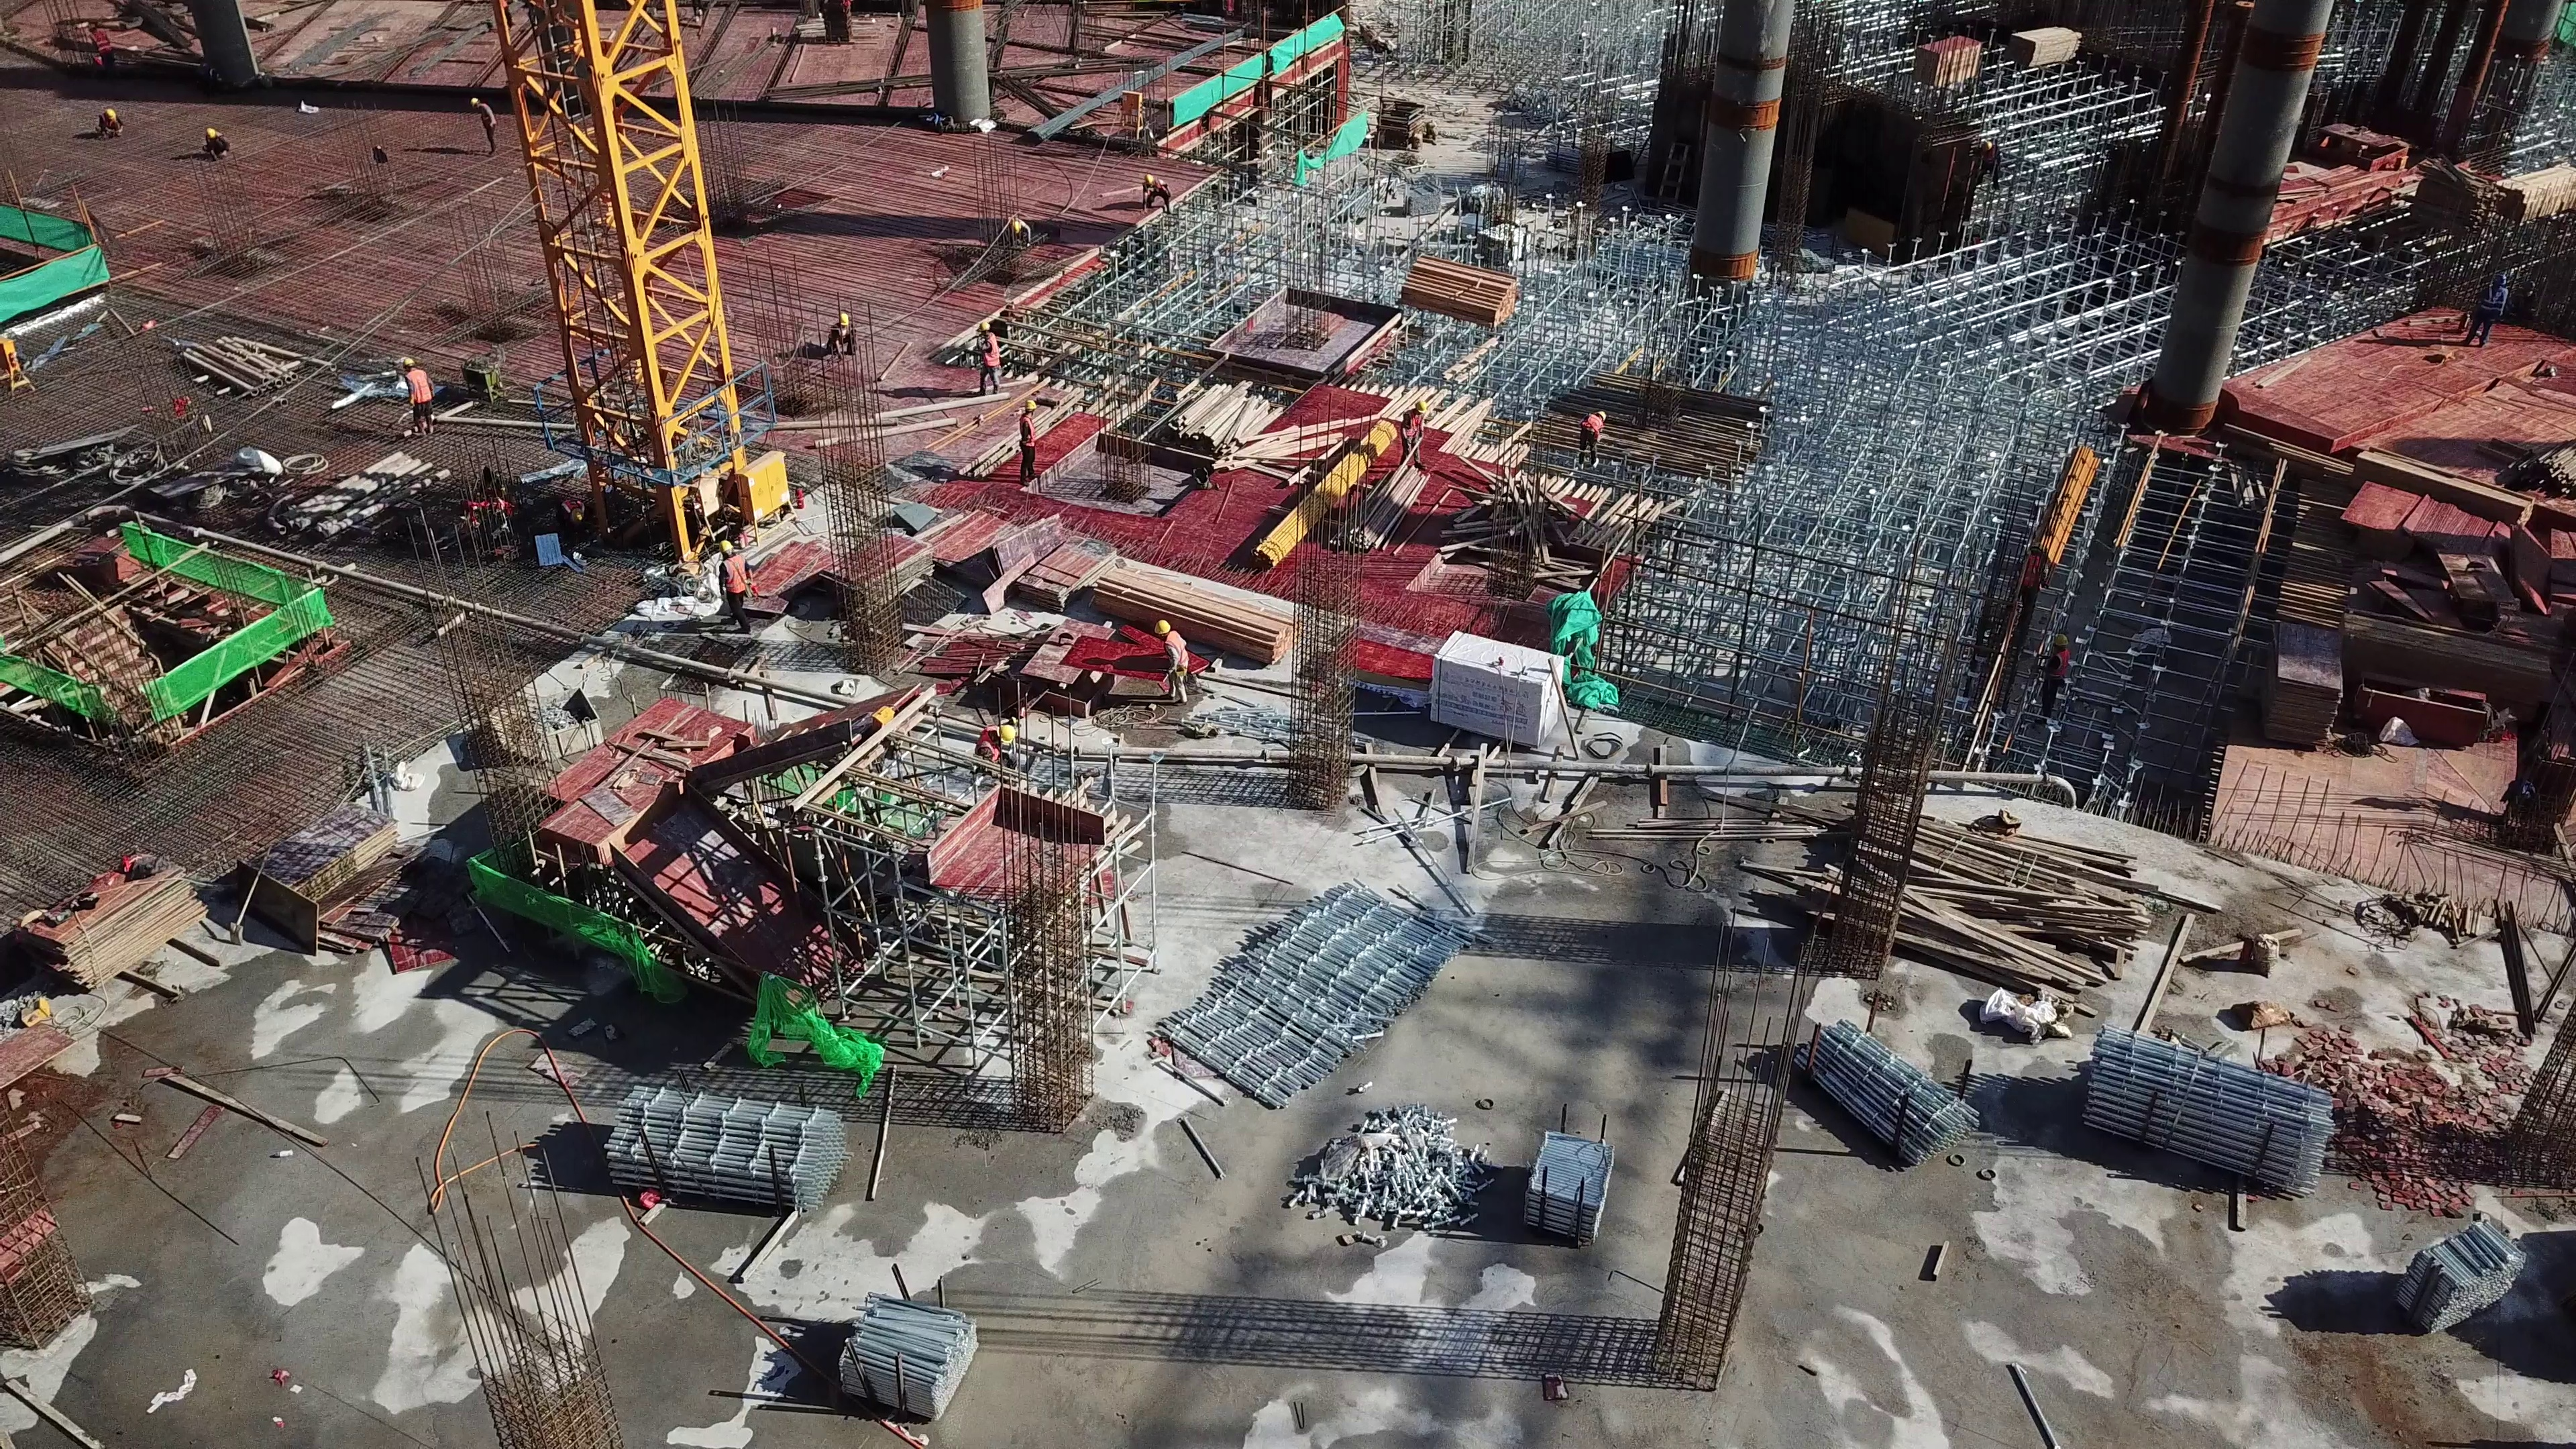board: (20, 855, 204, 993), (233, 797, 399, 943), (2255, 610, 2348, 756), (1912, 33, 1990, 100)
ebox: (735, 445, 798, 523), (8, 339, 31, 399)
person: (1143, 604, 1204, 733), (2467, 247, 2518, 360), (2033, 626, 2082, 737), (390, 348, 446, 435), (708, 532, 755, 628), (2015, 533, 2059, 631), (1572, 404, 1615, 479), (462, 92, 503, 162), (1394, 398, 1429, 476), (1138, 167, 1177, 226), (1018, 394, 1047, 468), (977, 322, 1003, 394), (828, 307, 860, 366), (1002, 219, 1042, 262), (197, 125, 240, 159), (93, 102, 124, 144)
scaffold: (1175, 859, 1438, 1106), (1312, 1121, 1621, 1264), (2080, 1034, 2342, 1197), (1770, 1016, 1974, 1179), (595, 1080, 837, 1217), (822, 1296, 1003, 1421)
wood: (1805, 783, 2155, 1004), (1102, 555, 1303, 675), (1152, 383, 1344, 485), (1405, 252, 1519, 325), (173, 335, 315, 394), (2479, 162, 2573, 229), (2508, 433, 2576, 506), (2000, 25, 2080, 74)
